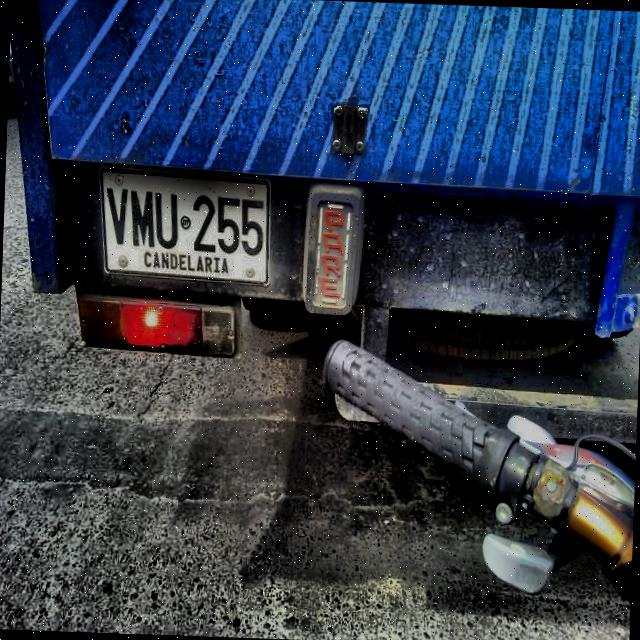2: (188, 192, 218, 253)
5: (239, 195, 265, 258), (215, 194, 242, 254)
M: (128, 188, 154, 248)
U: (154, 190, 182, 248)
V: (104, 186, 130, 244)
